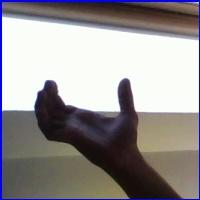space: (28, 69, 145, 170)
